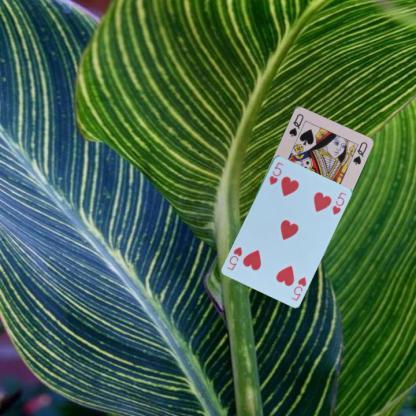5h: (288, 274, 308, 301), (266, 160, 284, 186)
Qs: (286, 111, 304, 138)
